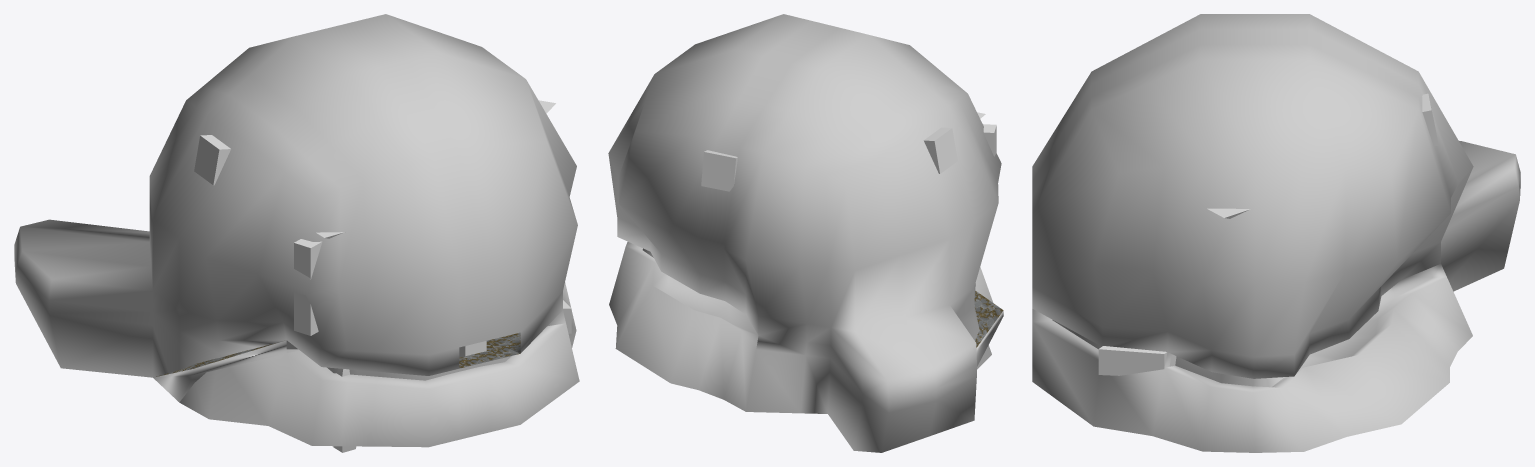
The model's file is LayeredMineLevel.fbx.
3 views of the same model, side by side, from view 1: azimuth 30°, elevation 25°; view 2: azimuth 150°, elevation 25°; view 3: azimuth 270°, elevation 25° (orthographic). The views are drawn at different scales.
Parts seen in each view (by area): view 1: Roundcube.001, Cube.036, Cube.037; view 2: Roundcube.001, Cube.038, Cube.037; view 3: Roundcube.001, Cube.041.
Boxes of the visible parts, x1,y1,x2,y2 form: Roundcube.001: (14, 14, 579, 447); Cube.036: (294, 239, 322, 335); Cube.037: (194, 135, 230, 185); Roundcube.001: (608, 14, 1003, 452); Cube.038: (701, 150, 737, 191); Cube.037: (923, 127, 957, 173); Roundcube.001: (1032, 14, 1520, 452); Cube.041: (1098, 346, 1176, 375).
Bounding box in the file's own units: 25171 × 18295 × 23426.
